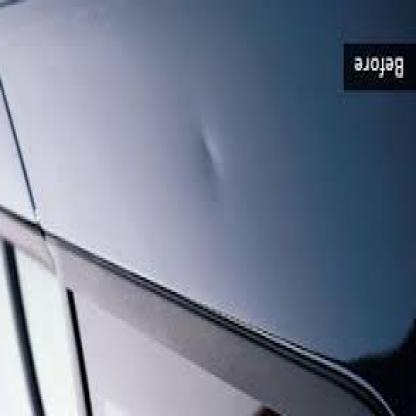dent: (191, 124, 226, 178)
